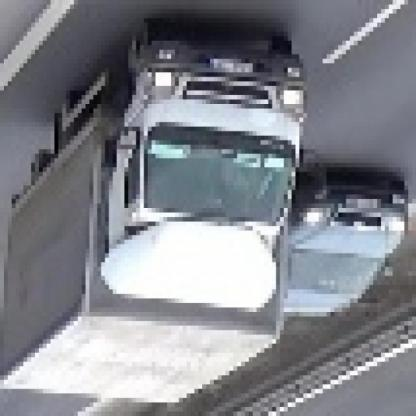truck: (5, 23, 312, 413)
